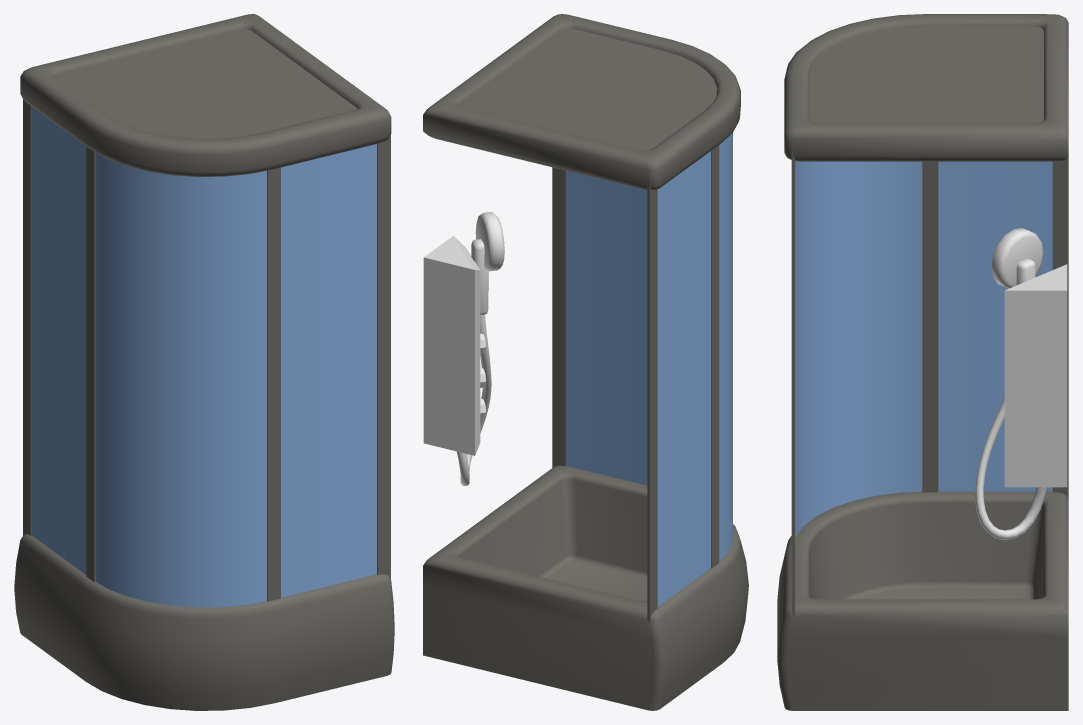
3 views of the same model, side by side, from view 1: azimuth 30°, elevation 25°; view 2: azimuth 150°, elevation 25°; view 3: azimuth 270°, elevation 25° (orthographic). The views are drawn at different scales.
Parts seen in each view (by area): view 1: Shower_01; view 2: Shower_01; view 3: Shower_01.
Part boxes in pixels (left/top/right/bottom): Shower_01: left=14, top=14, right=394, bottom=710; Shower_01: left=423, top=14, right=748, bottom=710; Shower_01: left=777, top=14, right=1068, bottom=710.
Bounding box in the file's own units: 0.8204 × 1.8 × 0.8204.
